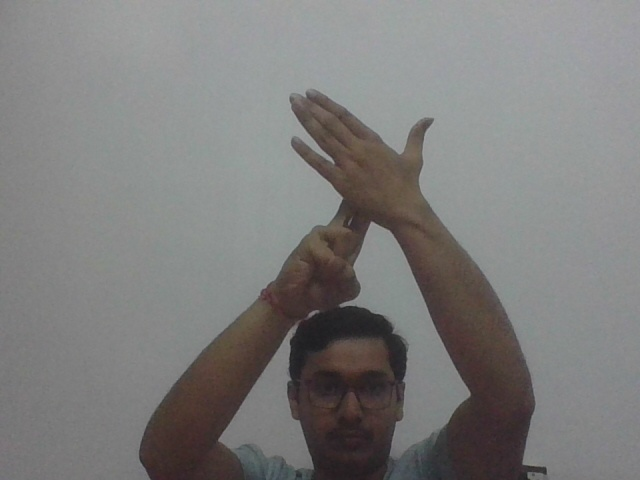N: (263, 88, 450, 308)
